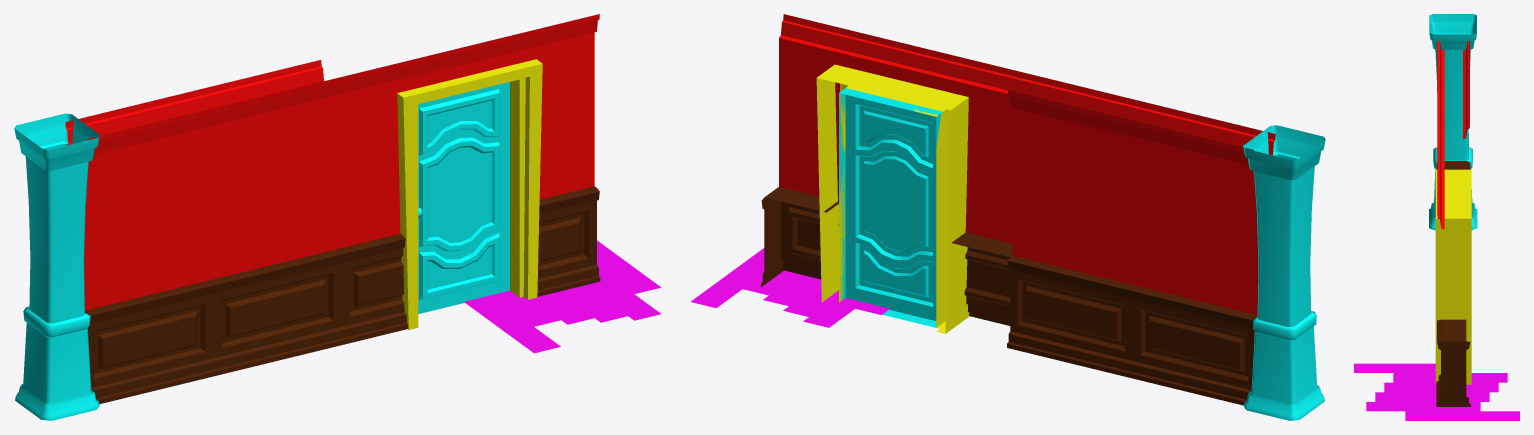
3 views of the same model, side by side, from view 1: azimuth 30°, elevation 25°; view 2: azimuth 150°, elevation 25°; view 3: azimuth 270°, elevation 25° (orthographic). The views are drawn at different scales.
Visible parts, largest first — view 1: Wall_Top_low.002, Wall_Bottom_low.002, Wall_Top_low, Door_low, Wall_Edge_low, Door_Frame_low, Wall_Bottom_low, Floorboards_G1_Low_FBoard_6A_low; view 2: Wall_Top_low.002, Wall_Bottom_low.002, Wall_Top_low, Door_low, Wall_Edge_low, Door_Frame_low, Wall_Bottom_low, Floorboards_G1_Low_FBoard_6A_low; view 3: Door_Frame_low, Floorboards_G1_Low_FBoard_6A_low, Wall_Edge_low, Wall_Bottom_low, Wall_Top_low.002, Wall_Top_low, Wall_Bottom_low.002.
Boxes of the visible parts, bbox=[...] form: Wall_Top_low.002: bbox=[65, 60, 343, 310]; Wall_Bottom_low.002: bbox=[85, 249, 344, 404]; Wall_Top_low: bbox=[339, 14, 599, 248]; Door_low: bbox=[418, 82, 509, 313]; Wall_Edge_low: bbox=[14, 113, 99, 420]; Door_Frame_low: bbox=[397, 59, 542, 329]; Wall_Bottom_low: bbox=[339, 186, 600, 344]; Floorboards_G1_Low_FBoard_6A_low: bbox=[464, 240, 661, 353]; Wall_Top_low.002: bbox=[1007, 74, 1275, 315]; Wall_Bottom_low.002: bbox=[1007, 256, 1257, 405]; Wall_Top_low: bbox=[779, 14, 1029, 243]; Door_low: bbox=[839, 88, 942, 327]; Wall_Edge_low: bbox=[1243, 125, 1325, 420]; Door_Frame_low: bbox=[816, 64, 969, 333]; Wall_Bottom_low: bbox=[761, 187, 1012, 325]; Floorboards_G1_Low_FBoard_6A_low: bbox=[690, 248, 889, 327]; Door_Frame_low: bbox=[1435, 169, 1471, 384]; Floorboards_G1_Low_FBoard_6A_low: bbox=[1354, 363, 1519, 420]; Wall_Edge_low: bbox=[1429, 14, 1477, 230]; Wall_Bottom_low: bbox=[1436, 319, 1470, 406]; Wall_Top_low.002: bbox=[1437, 39, 1469, 139]; Wall_Top_low: bbox=[1437, 126, 1444, 229]; Wall_Bottom_low.002: bbox=[1437, 161, 1470, 169].
Size of the model in its own units: 566 by 245 by 187.
